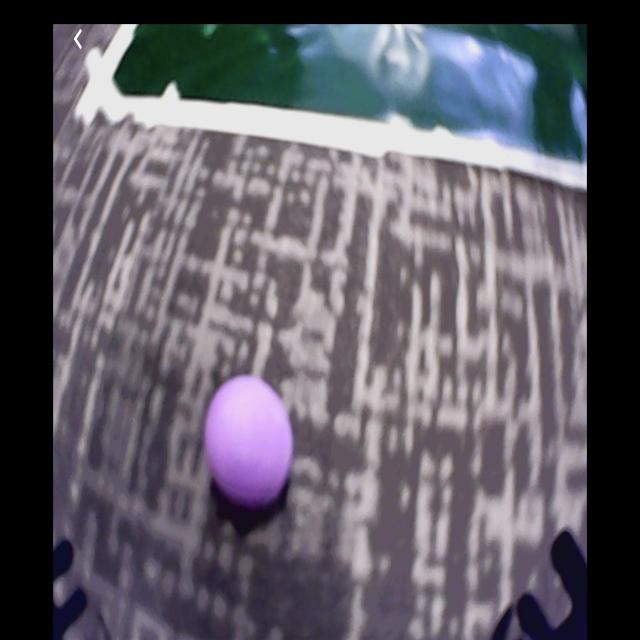ball: (206, 376, 293, 502)
